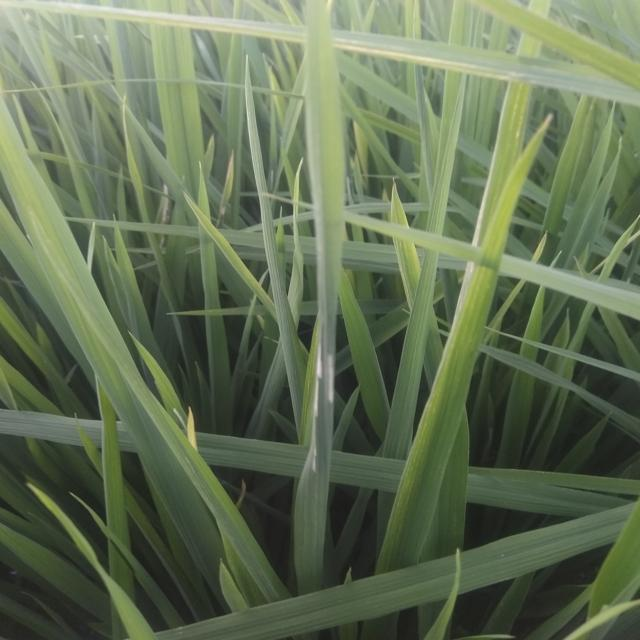brown plant hopper: (272, 288, 358, 501)
